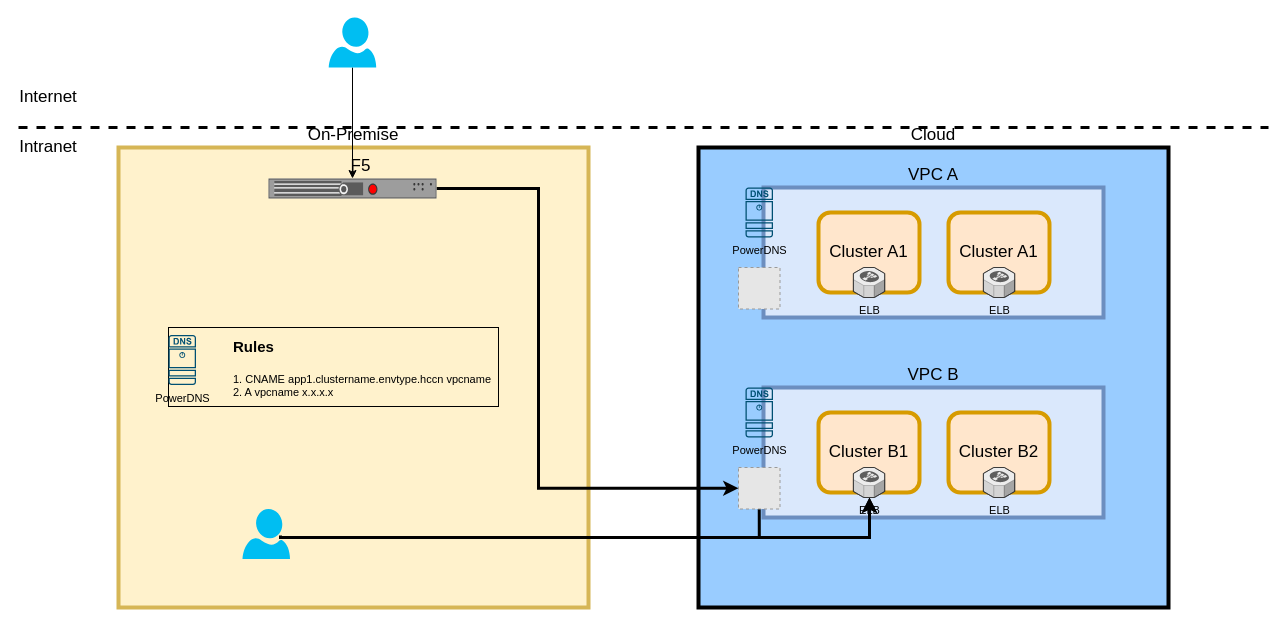
This 1288x626 diagram has some shape labels left out. Grey dashed boxes stand in for pictures. The shapes that lost their labels are listed below. From the top down, each one's centre as x and y in pixels, then its label:
the point at 352,42: app1.homecreditcfc.cn
the point at 266,533: app1.clustername.envtype.hccn
